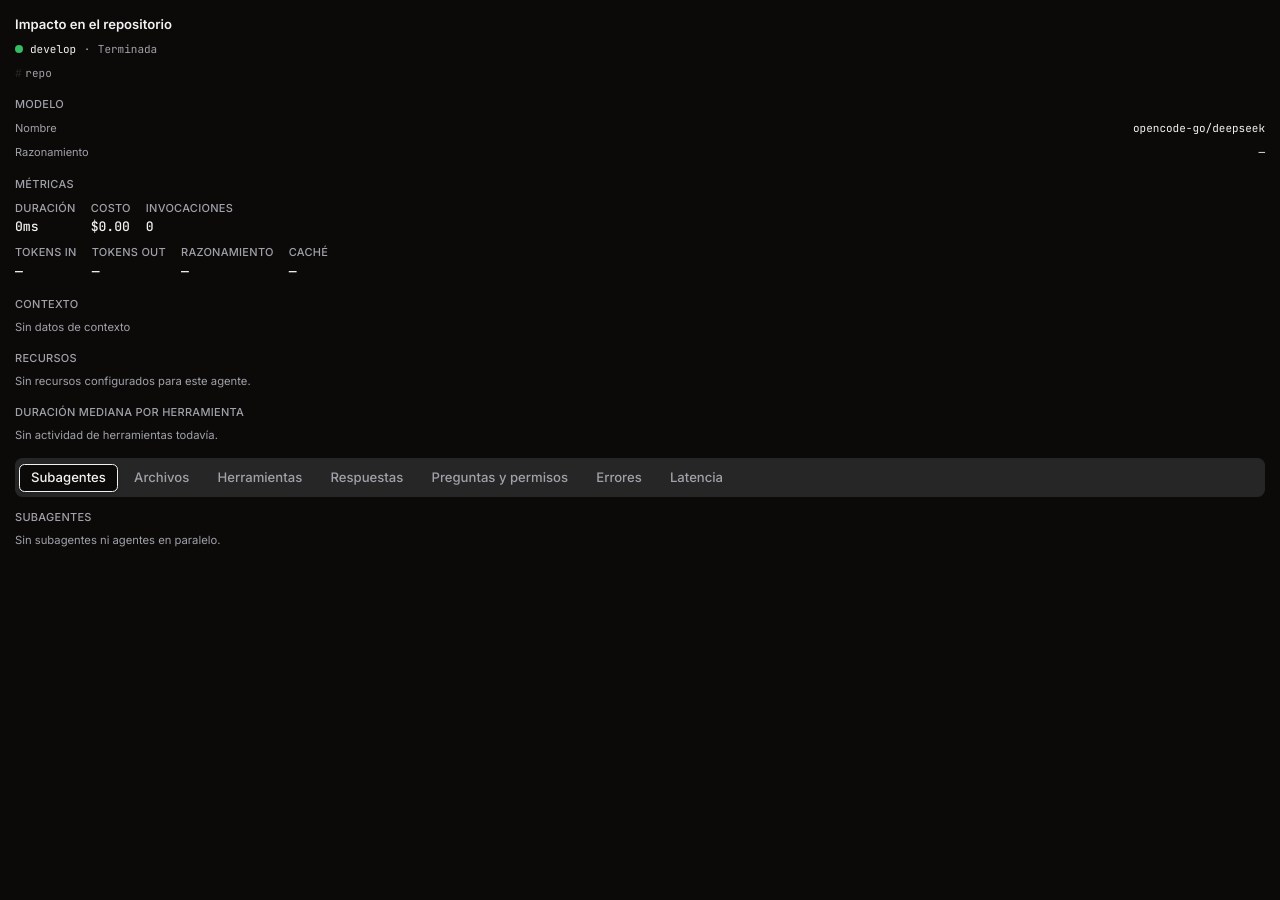
Test: InspectorPanel — estados de servicio de Archivos y Preguntas y permisos (§5) › Archivos muestra los cambios y Preguntas y permisos las tres fuentes, sin red
Click the tab "Archivos" at (162,478), box [122, 464, 201, 492]
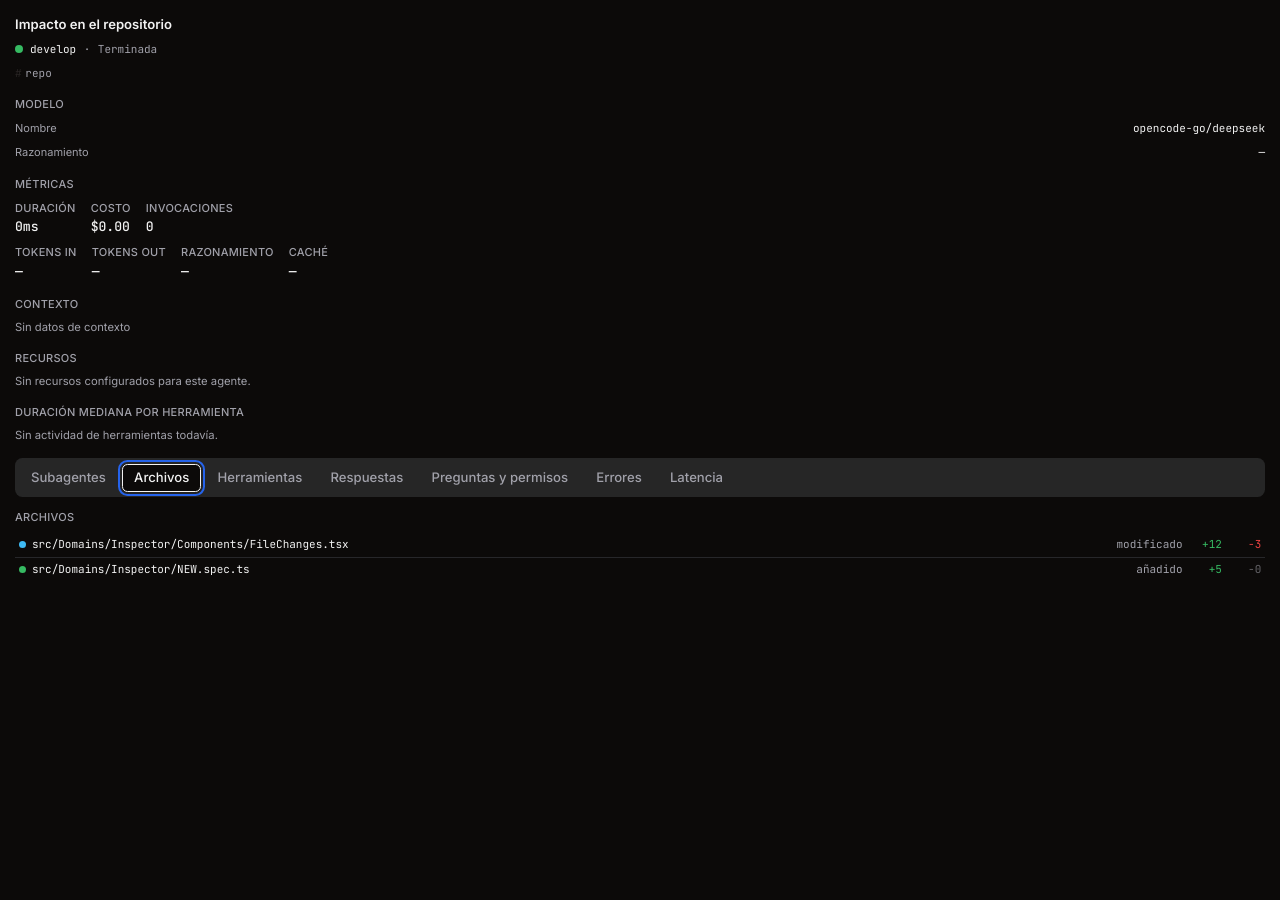
Check: the text "Archivos" is shown, box [15, 510, 74, 524]
Check: the text "src/Domains/Inspector/Components/FileChanges.tsx" is shown, box [32, 537, 349, 551]
Check: the text "modificado" is shown, box [1112, 536, 1182, 553]
Click the button "FileChanges" at (190,544), box [15, 532, 1265, 558]
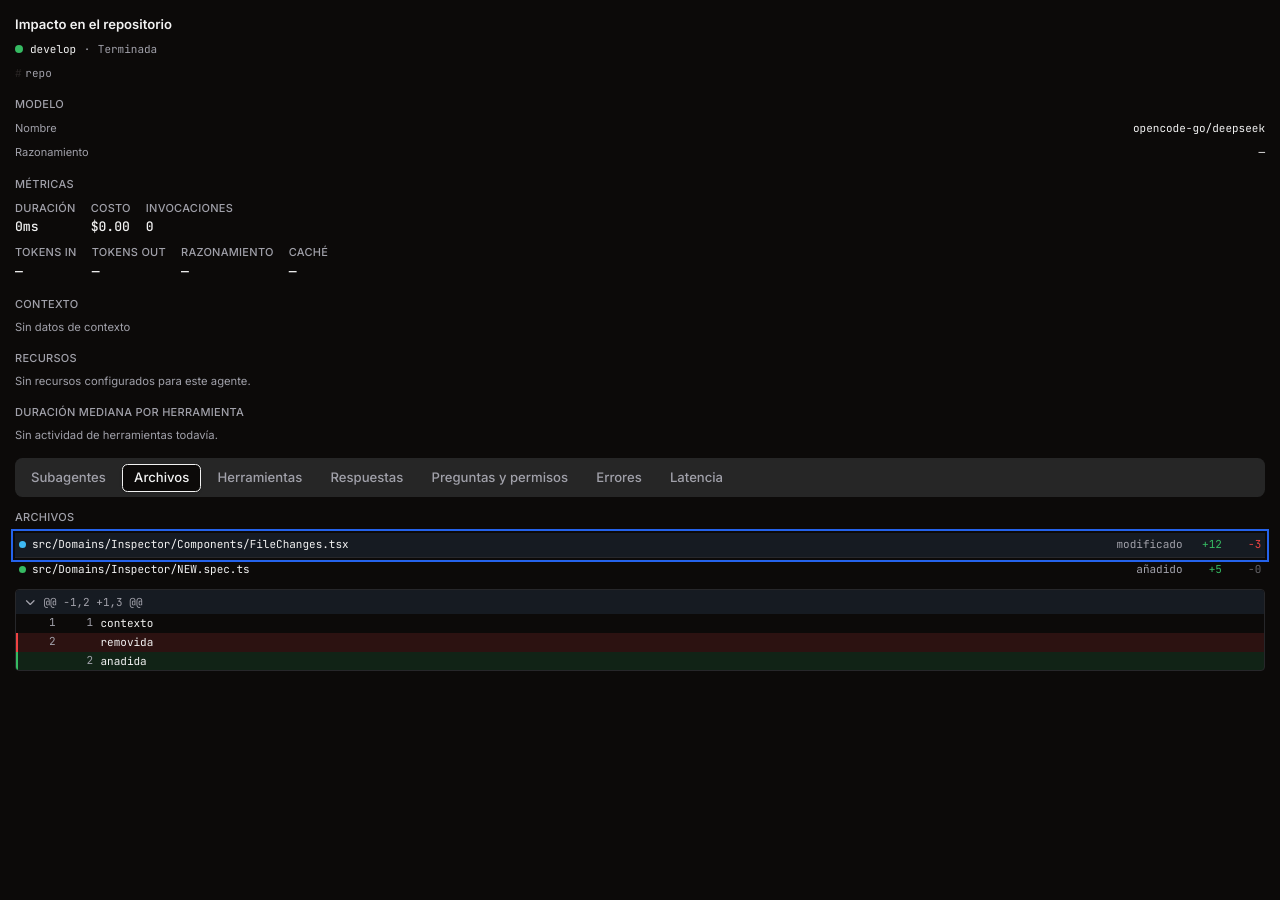
Check: the text "anadida" is shown, box [100, 652, 147, 670]
Check: the text "removida" is shown, box [100, 633, 153, 652]
Click the button "src/Domains/Inspector/NEW.spec.ts añadido +5 -0" at (141,569), box [15, 558, 1265, 582]
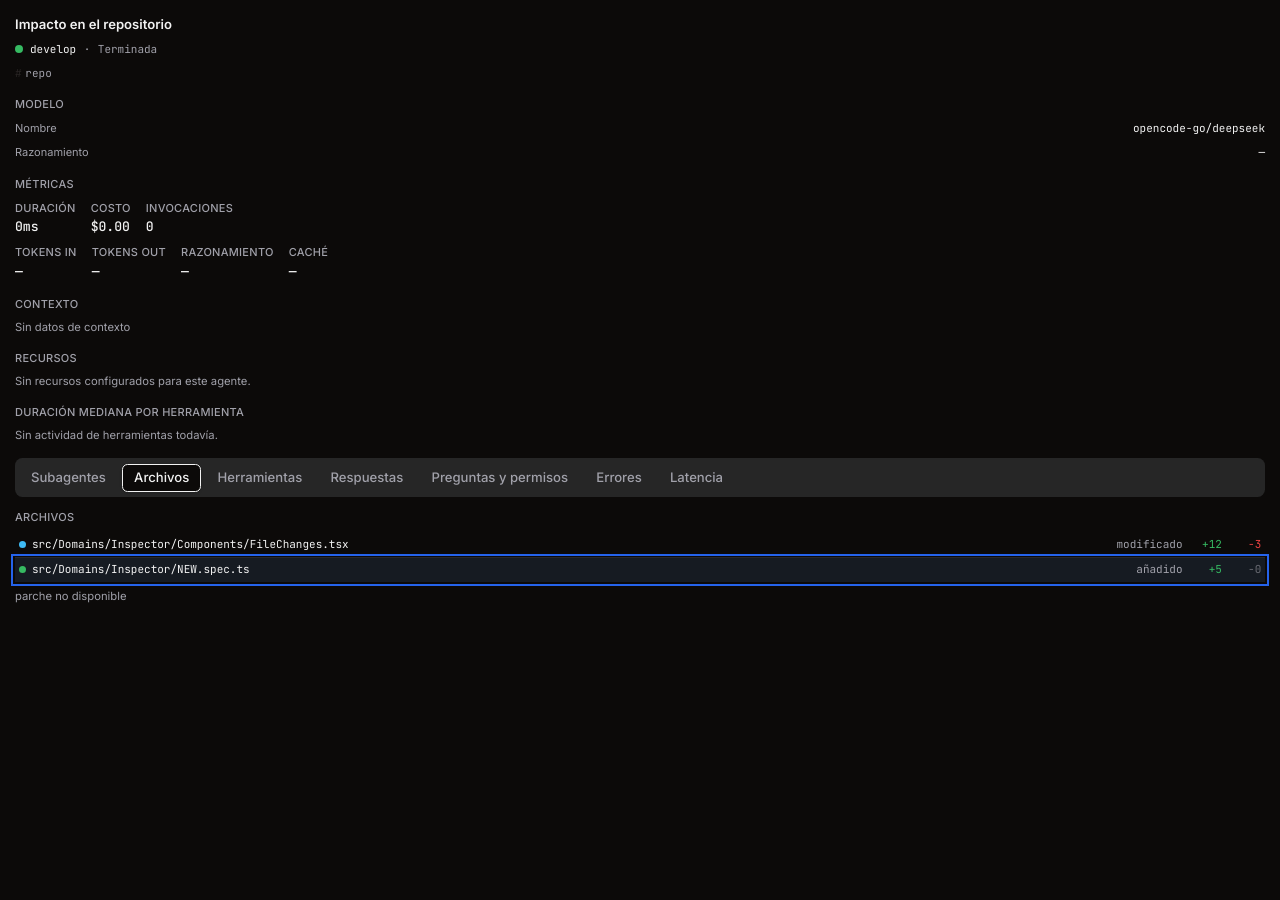
Check: the text "parche no disponible" is shown, box [15, 589, 126, 603]
Click the tab "Preguntas y permisos" at (500,478), box [419, 464, 580, 492]
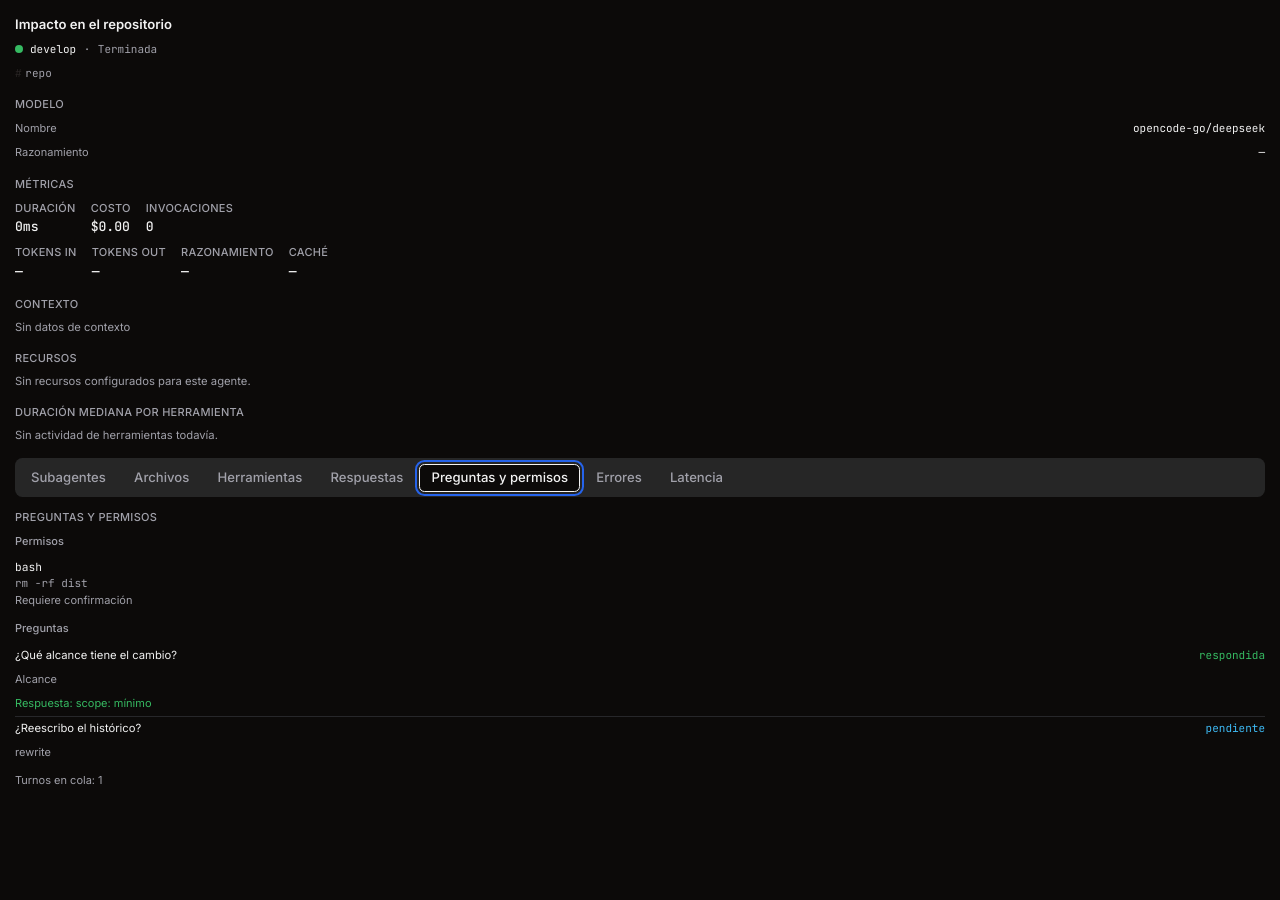
Check: the text "Preguntas y permisos" is shown, box [15, 510, 157, 524]
Check: the text "Permisos" is shown, box [15, 534, 64, 548]
Check: the text "bash" is shown, box [15, 560, 42, 574]
